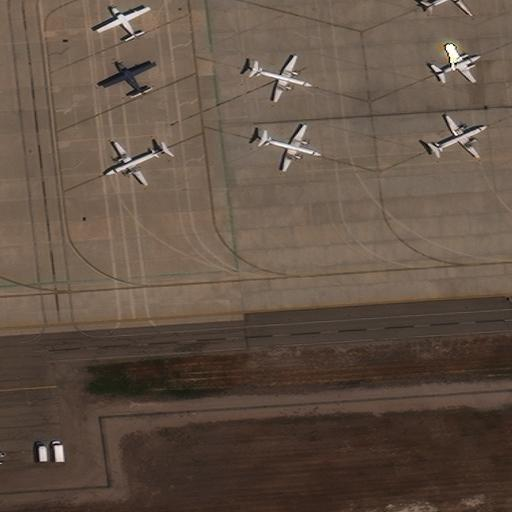Medium Civil Transport: (251, 56, 313, 102), (260, 126, 321, 171), (104, 145, 167, 186), (430, 115, 488, 156), (96, 5, 147, 39), (102, 61, 153, 95), (423, 0, 476, 14)
Small Civil Transport: (436, 44, 481, 79)
